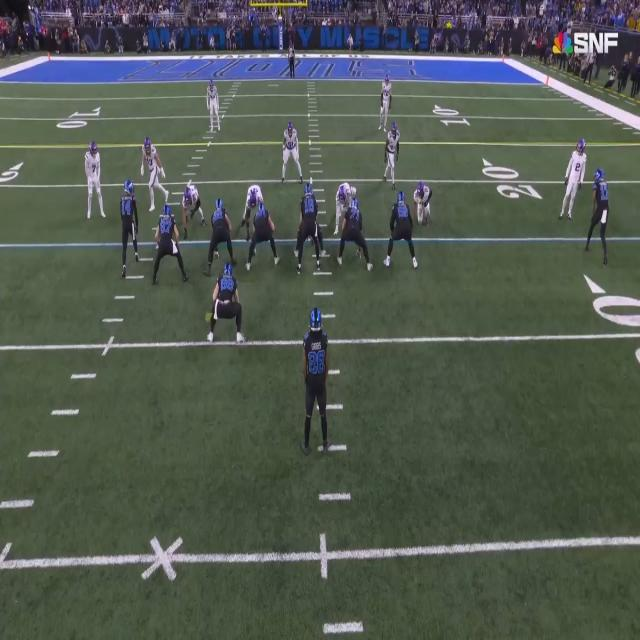Player: (300, 307, 331, 455), (153, 202, 189, 286), (298, 180, 322, 279), (587, 165, 610, 260), (210, 262, 240, 334), (206, 196, 235, 268), (388, 189, 414, 269), (563, 140, 587, 220), (251, 203, 277, 272), (120, 180, 138, 274), (84, 137, 104, 220), (340, 198, 364, 267), (141, 136, 162, 209), (280, 119, 299, 183), (182, 183, 204, 235), (384, 123, 400, 187), (413, 179, 431, 228), (206, 79, 220, 133), (379, 71, 392, 129), (246, 180, 262, 206)
Referee: (285, 38, 296, 79)
